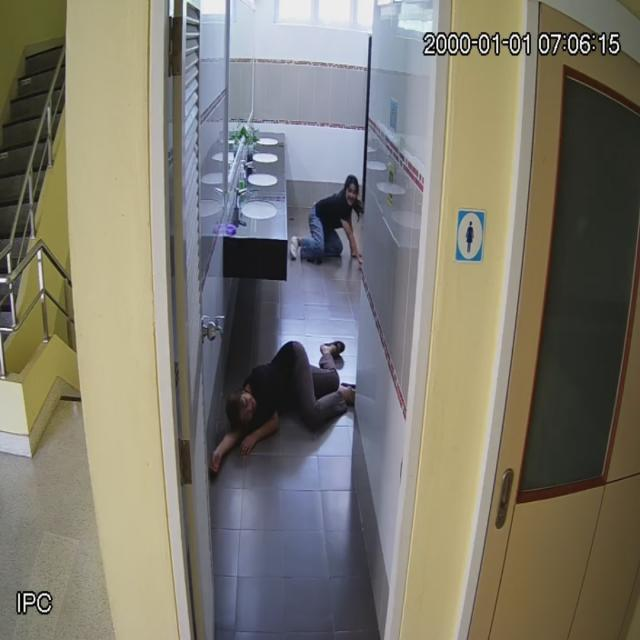fall: (204, 331, 357, 462), (292, 172, 368, 276)
